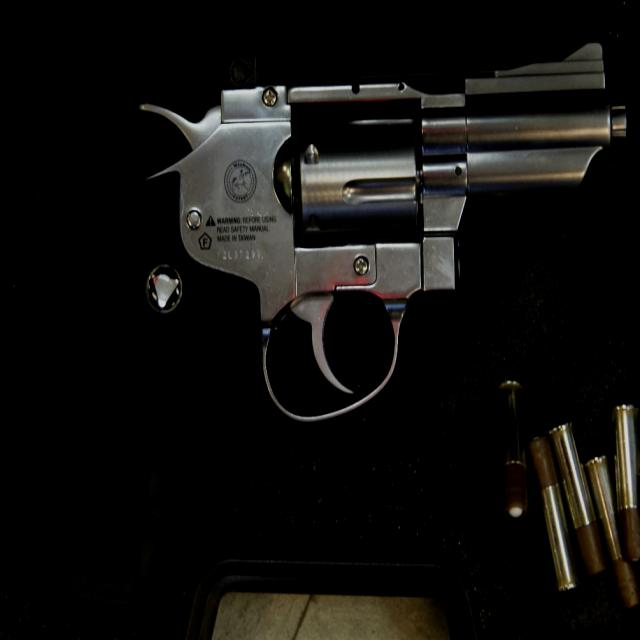pistol: (16, 42, 625, 606)
